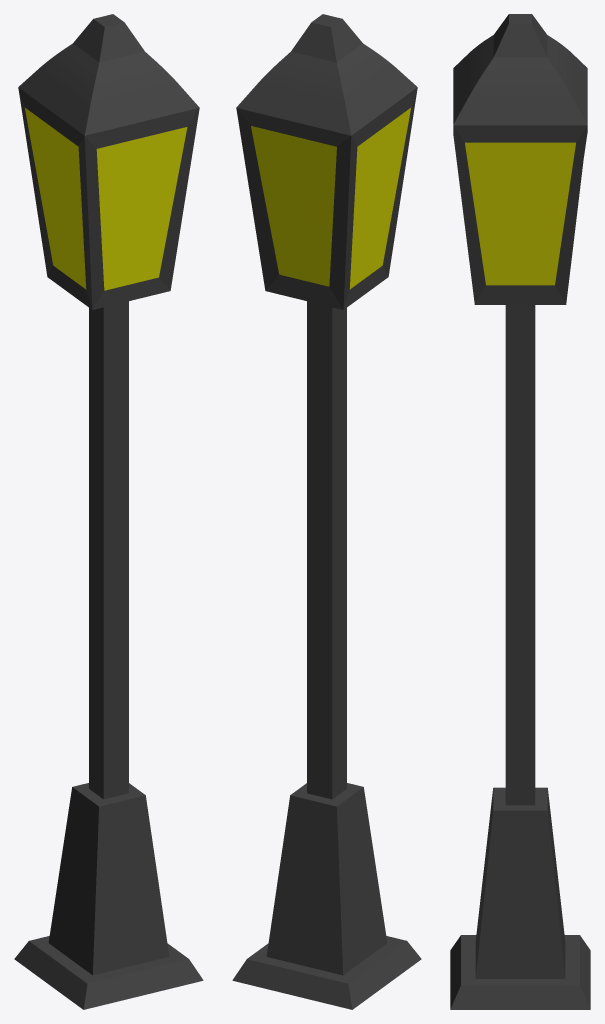
File: PosteDeLuz.fbx
3 views of the same model, side by side, from view 1: azimuth 30°, elevation 25°; view 2: azimuth 150°, elevation 25°; view 3: azimuth 270°, elevation 25° (orthographic).
Parts seen in each view (by area): view 1: Cube.003; view 2: Cube.003; view 3: Cube.003.
Boxes of the visible parts, <box> form: Cube.003: <box>14,14,203,1009</box>; Cube.003: <box>232,14,421,1009</box>; Cube.003: <box>450,14,590,1009</box>.
Size of the model in its own units: 40.49 by 306 by 40.49.
